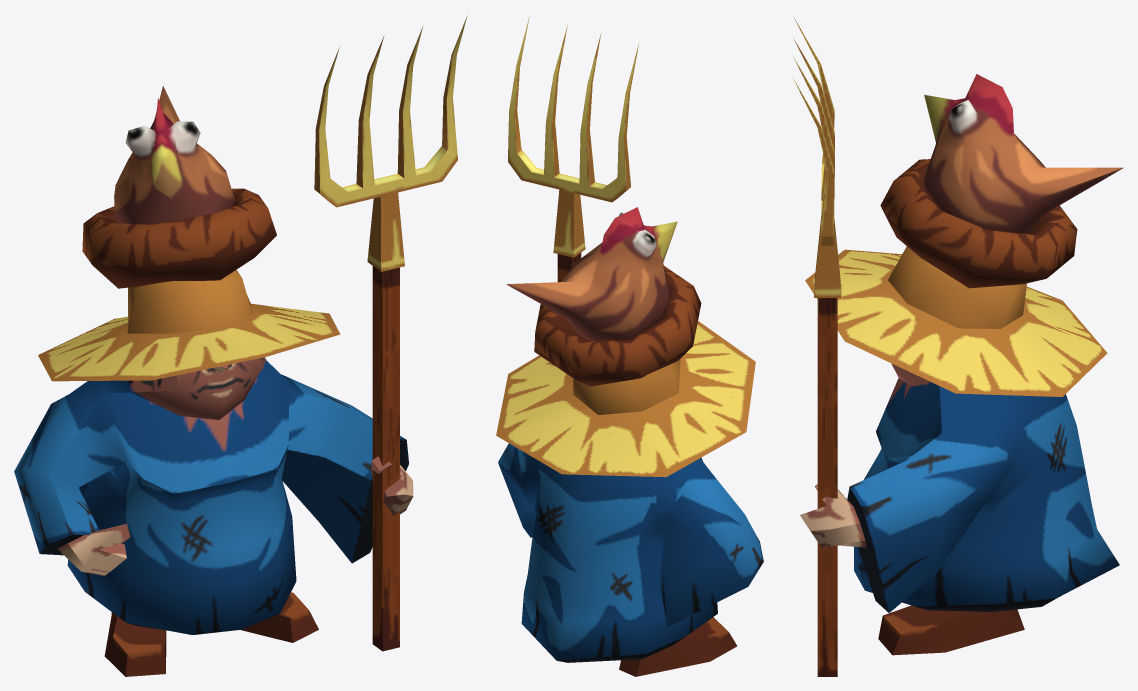
File: Volailler_Morpher.fbx
3 views of the same model, side by side, from view 1: azimuth 30°, elevation 25°; view 2: azimuth 150°, elevation 25°; view 3: azimuth 270°, elevation 25° (orthographic). The views are drawn at different scales.
Parts seen in each view (by area): view 1: Volailler_Morpher; view 2: Volailler_Morpher; view 3: Volailler_Morpher.
Part boxes in pixels (x1,y1,x2,y2): Volailler_Morpher: (14, 15, 467, 676); Volailler_Morpher: (496, 16, 763, 676); Volailler_Morpher: (793, 18, 1123, 676).
Size of the model in its own units: 122 by 208 by 99.71.
Materials: 1 (1 with a texture image).
